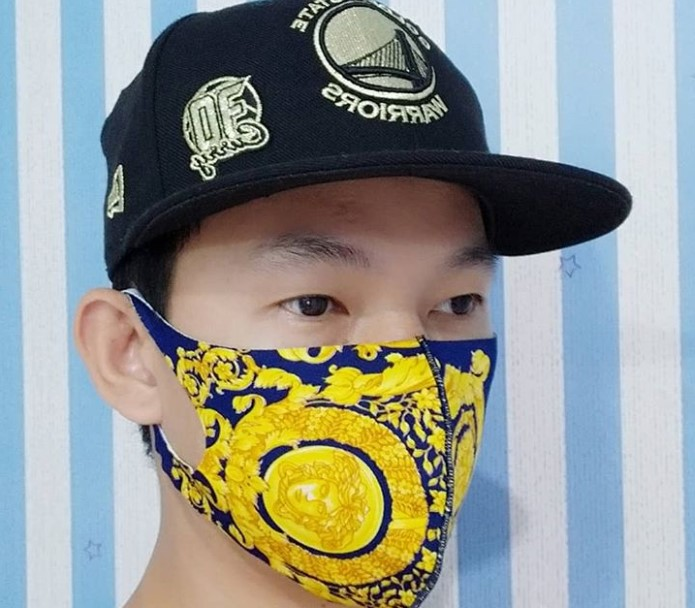face_with_mask: (78, 5, 528, 606)
